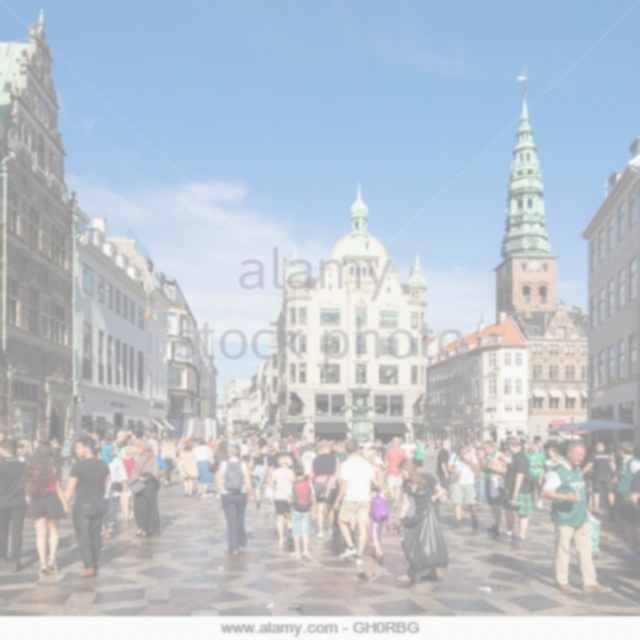pessoa: (542, 439, 614, 596), (11, 438, 70, 578), (60, 433, 111, 578), (392, 456, 446, 583), (331, 438, 377, 566), (214, 442, 254, 556), (0, 434, 33, 572), (494, 434, 534, 544), (307, 440, 342, 540), (610, 440, 639, 560), (128, 438, 161, 538), (476, 438, 509, 536), (286, 463, 318, 562), (97, 444, 129, 540), (446, 441, 480, 530), (580, 442, 620, 517), (268, 453, 298, 550), (364, 485, 392, 563), (382, 435, 408, 510), (522, 442, 546, 509), (429, 438, 452, 504), (192, 438, 214, 501), (176, 438, 198, 498), (250, 446, 268, 509), (538, 446, 565, 488), (208, 438, 232, 484), (338, 396, 383, 420), (224, 424, 258, 452), (268, 443, 299, 473), (159, 439, 176, 487), (112, 429, 136, 461), (335, 442, 352, 487), (145, 447, 169, 478), (264, 442, 280, 486), (300, 442, 318, 481), (90, 432, 114, 458), (342, 434, 373, 454), (252, 436, 270, 467), (411, 437, 426, 473), (120, 447, 136, 479), (369, 448, 385, 480), (13, 442, 34, 465), (315, 434, 339, 453), (158, 435, 185, 449), (206, 430, 224, 450), (286, 434, 306, 452), (420, 437, 440, 454), (454, 438, 481, 450), (404, 437, 417, 460), (49, 436, 64, 455), (519, 434, 532, 454), (264, 431, 280, 447), (238, 438, 248, 463), (536, 437, 550, 454), (376, 438, 386, 458), (126, 436, 136, 453), (497, 436, 507, 451), (560, 440, 569, 456), (188, 432, 198, 446), (148, 430, 158, 443), (0, 428, 9, 442), (292, 452, 302, 464), (398, 436, 408, 448), (135, 434, 149, 441), (548, 438, 560, 446), (387, 440, 392, 448)
